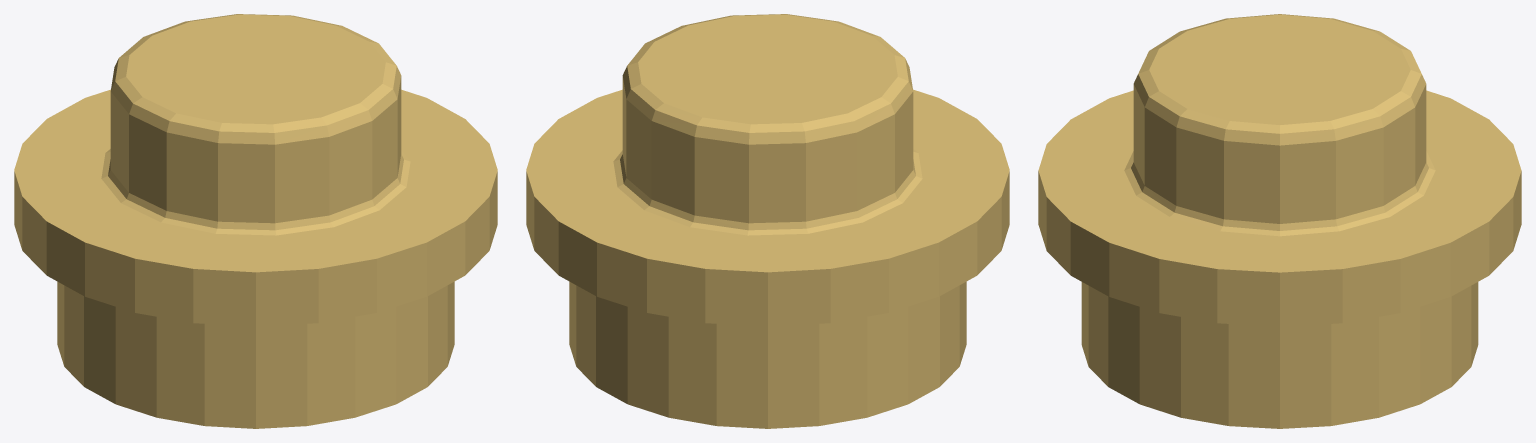
Rendered from gold-coin-model.gltf.
3 views of the same model, side by side, from view 1: azimuth 30°, elevation 25°; view 2: azimuth 150°, elevation 25°; view 3: azimuth 270°, elevation 25° (orthographic).
Visible parts, largest first — view 1: Part.0; view 2: Part.0; view 3: Part.0.
Part boxes in pixels (bbox=[...]): Part.0: bbox=[14, 14, 497, 428]; Part.0: bbox=[526, 14, 1009, 428]; Part.0: bbox=[1038, 14, 1521, 428].
Bounding box in the file's own units: 7.92 × 4.98 × 7.92.
